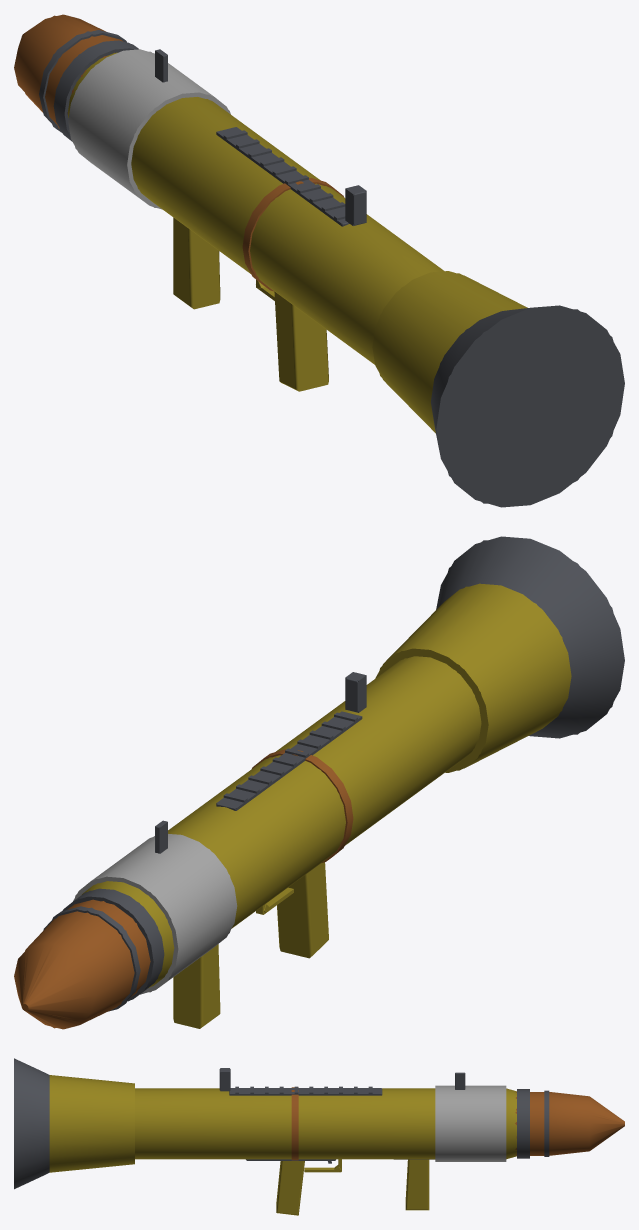
Rendered from la_bunker.glb.
3 views of the same model, one above another, from view 1: azimuth 30°, elevation 25°; view 2: azimuth 150°, elevation 25°; view 3: azimuth 270°, elevation 25° (orthographic). The views are drawn at different scales.
Visible parts, largest first — view 1: L0, L1; view 2: L0, L1; view 3: L0, L1.
Part boxes in pixels (<box>): L0: <box>14,14,624,507</box>; L1: <box>22,15,624,504</box>; L0: <box>14,536,624,1029</box>; L1: <box>22,540,613,1028</box>; L0: <box>14,1058,624,1215</box>; L1: <box>14,1058,624,1189</box>.
Size of the model in its own units: 0.222 by 0.274 by 1.03.
